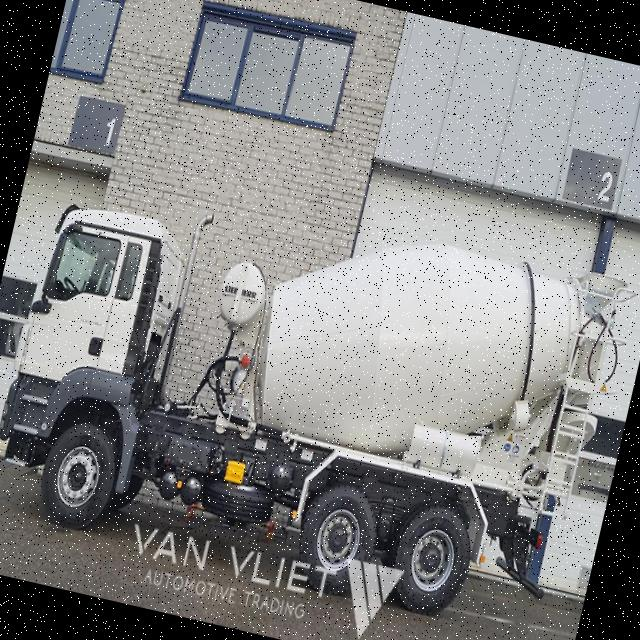Mixer Truck: (0, 149, 640, 640)
